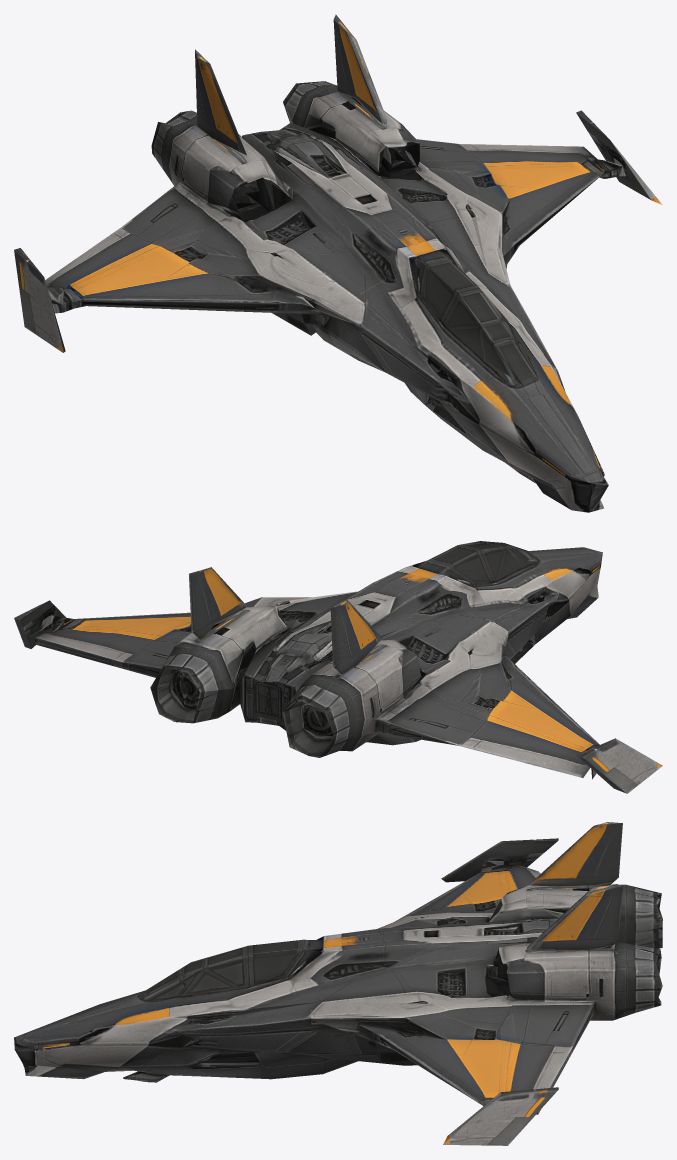
Rendered from interceptor-low.glb.
3 views of the same model, one above another, from view 1: azimuth 30°, elevation 25°; view 2: azimuth 150°, elevation 25°; view 3: azimuth 270°, elevation 25° (orthographic). The views are drawn at different scales.
Visible parts, largest first — view 1: Low; view 2: Low; view 3: Low.
Boxes of the visible parts, x1,y1,x2,y2 form: Low: (14,14,662,512); Low: (14,541,662,793); Low: (14,822,662,1145).
Bounding box in the file's own units: 1.68 × 0.6706 × 1.72.
Materials: 1 (1 with a texture image).
